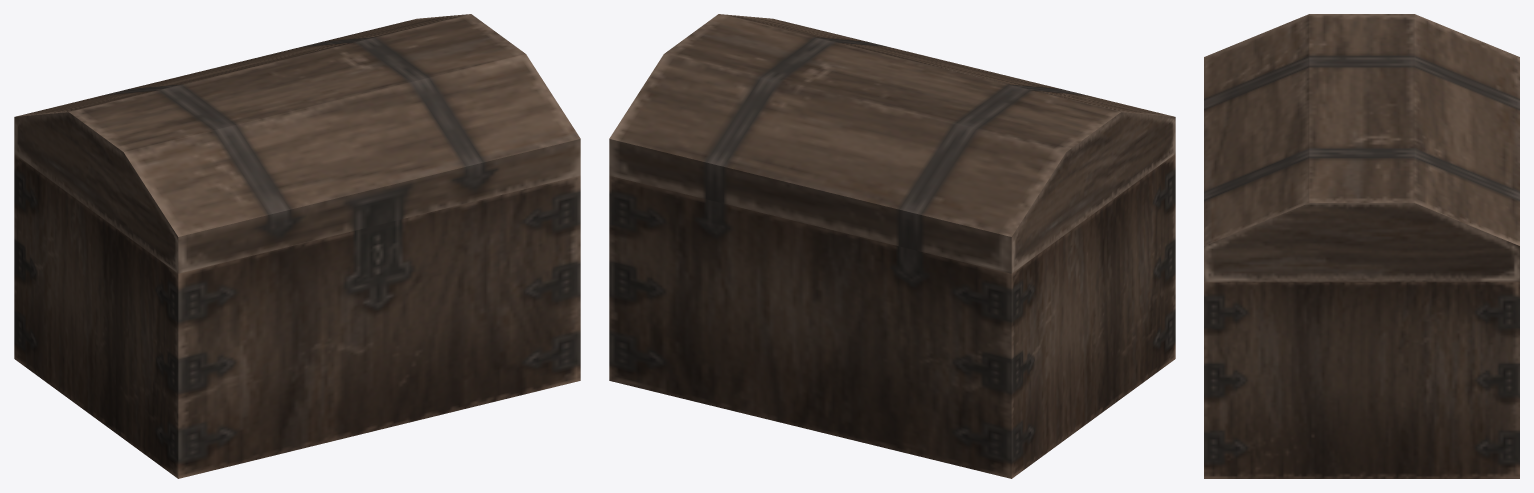
File: Chest.fbx
3 renders of one model, left to right at view 1: azimuth 30°, elevation 25°; view 2: azimuth 150°, elevation 25°; view 3: azimuth 270°, elevation 25°, orthographic. The views are drawn at different scales.
Parts seen in each view (by area): view 1: Chest; view 2: Chest; view 3: Chest.
Part boxes in pixels (box(x1,y1,x2,y2)): Chest: box(14, 14, 580, 478); Chest: box(609, 14, 1175, 478); Chest: box(1204, 14, 1519, 478).
Size of the model in its own units: 76.6 by 52.14 by 54.08.
